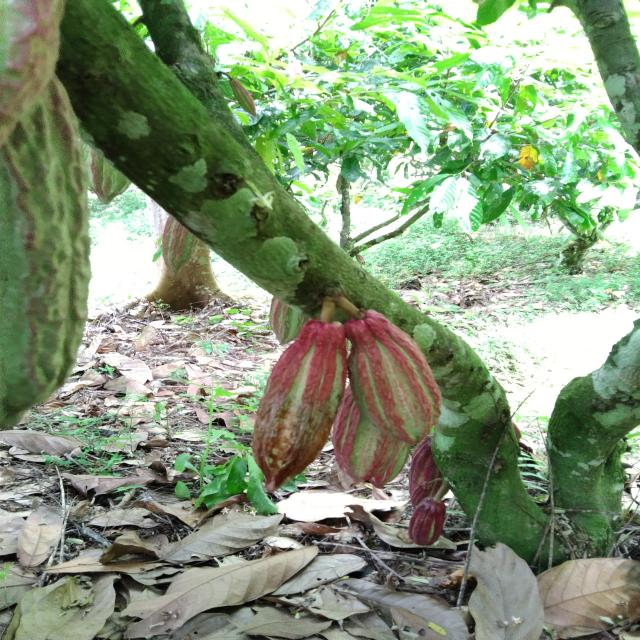Fitoftora: (246, 324, 347, 491)
Sana: (343, 317, 443, 441), (333, 384, 399, 484), (407, 496, 446, 544), (162, 220, 195, 273), (268, 298, 304, 342), (93, 162, 128, 206), (228, 77, 260, 117), (412, 483, 429, 506)
